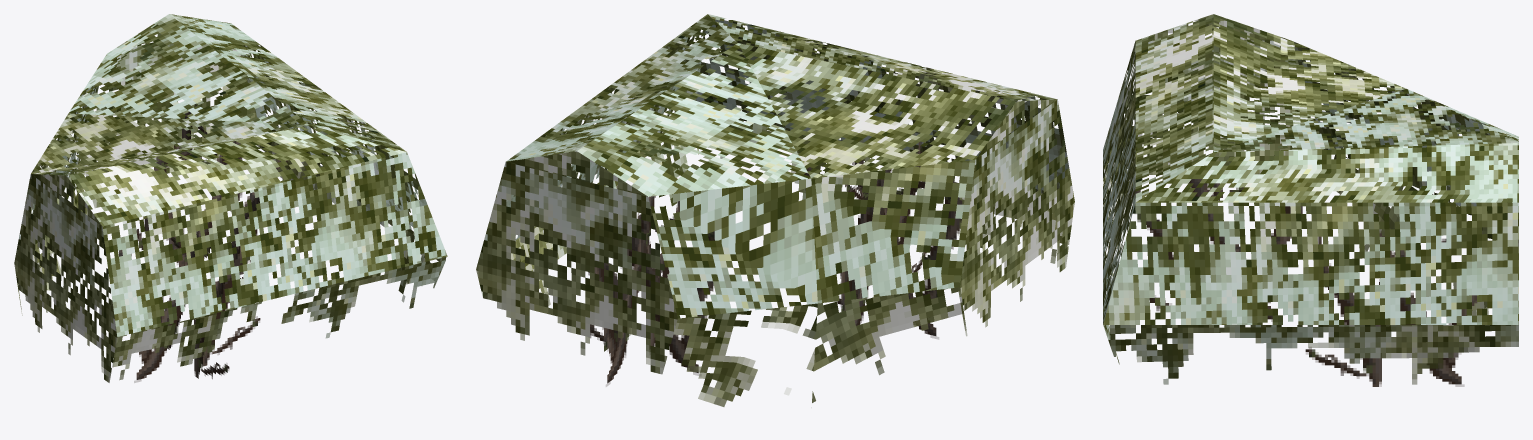
File: bush_square_corner_filled_roots_winter.glb
3 renders of one model, left to right at view 1: azimuth 30°, elevation 25°; view 2: azimuth 150°, elevation 25°; view 3: azimuth 270°, elevation 25°, orthographic. The views are drawn at different scales.
Visible parts, largest first — view 1: bush_square_corner_filled_roots_winter; view 2: bush_square_corner_filled_roots_winter; view 3: bush_square_corner_filled_roots_winter.
Boxes of the visible parts, box(x1,y1,x2,y2) form: bush_square_corner_filled_roots_winter: box(14, 14, 447, 382); bush_square_corner_filled_roots_winter: box(476, 14, 1074, 406); bush_square_corner_filled_roots_winter: box(1103, 14, 1518, 386).
Size of the model in its own units: 1.36 by 0.8765 by 1.35.
Materials: 2 (2 with a texture image).
